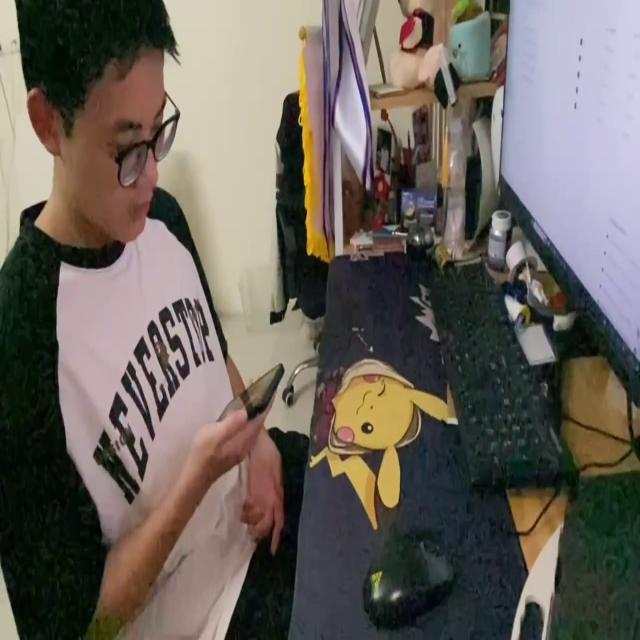laptop: (499, 1, 640, 412)
phone: (208, 358, 282, 424)
student: (0, 0, 306, 640)
